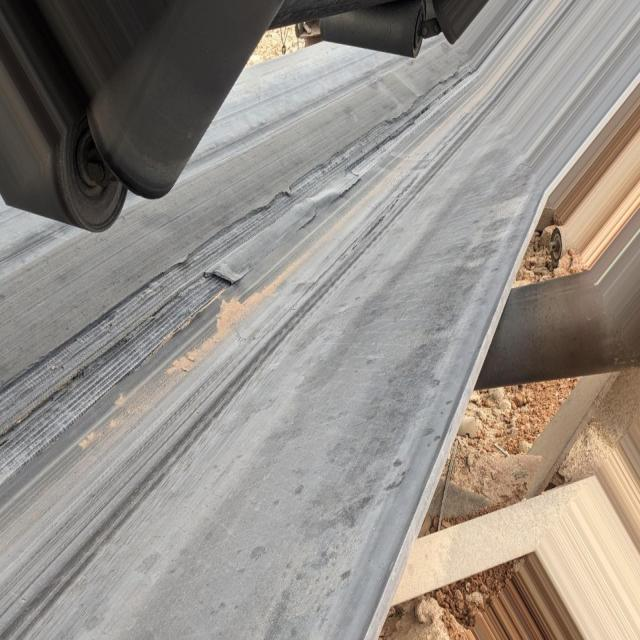Roller: (92, 8, 273, 192), (480, 259, 612, 389), (479, 270, 610, 393), (15, 144, 126, 234), (313, 3, 424, 56), (440, 2, 484, 41)
Tear: (4, 70, 466, 490)
